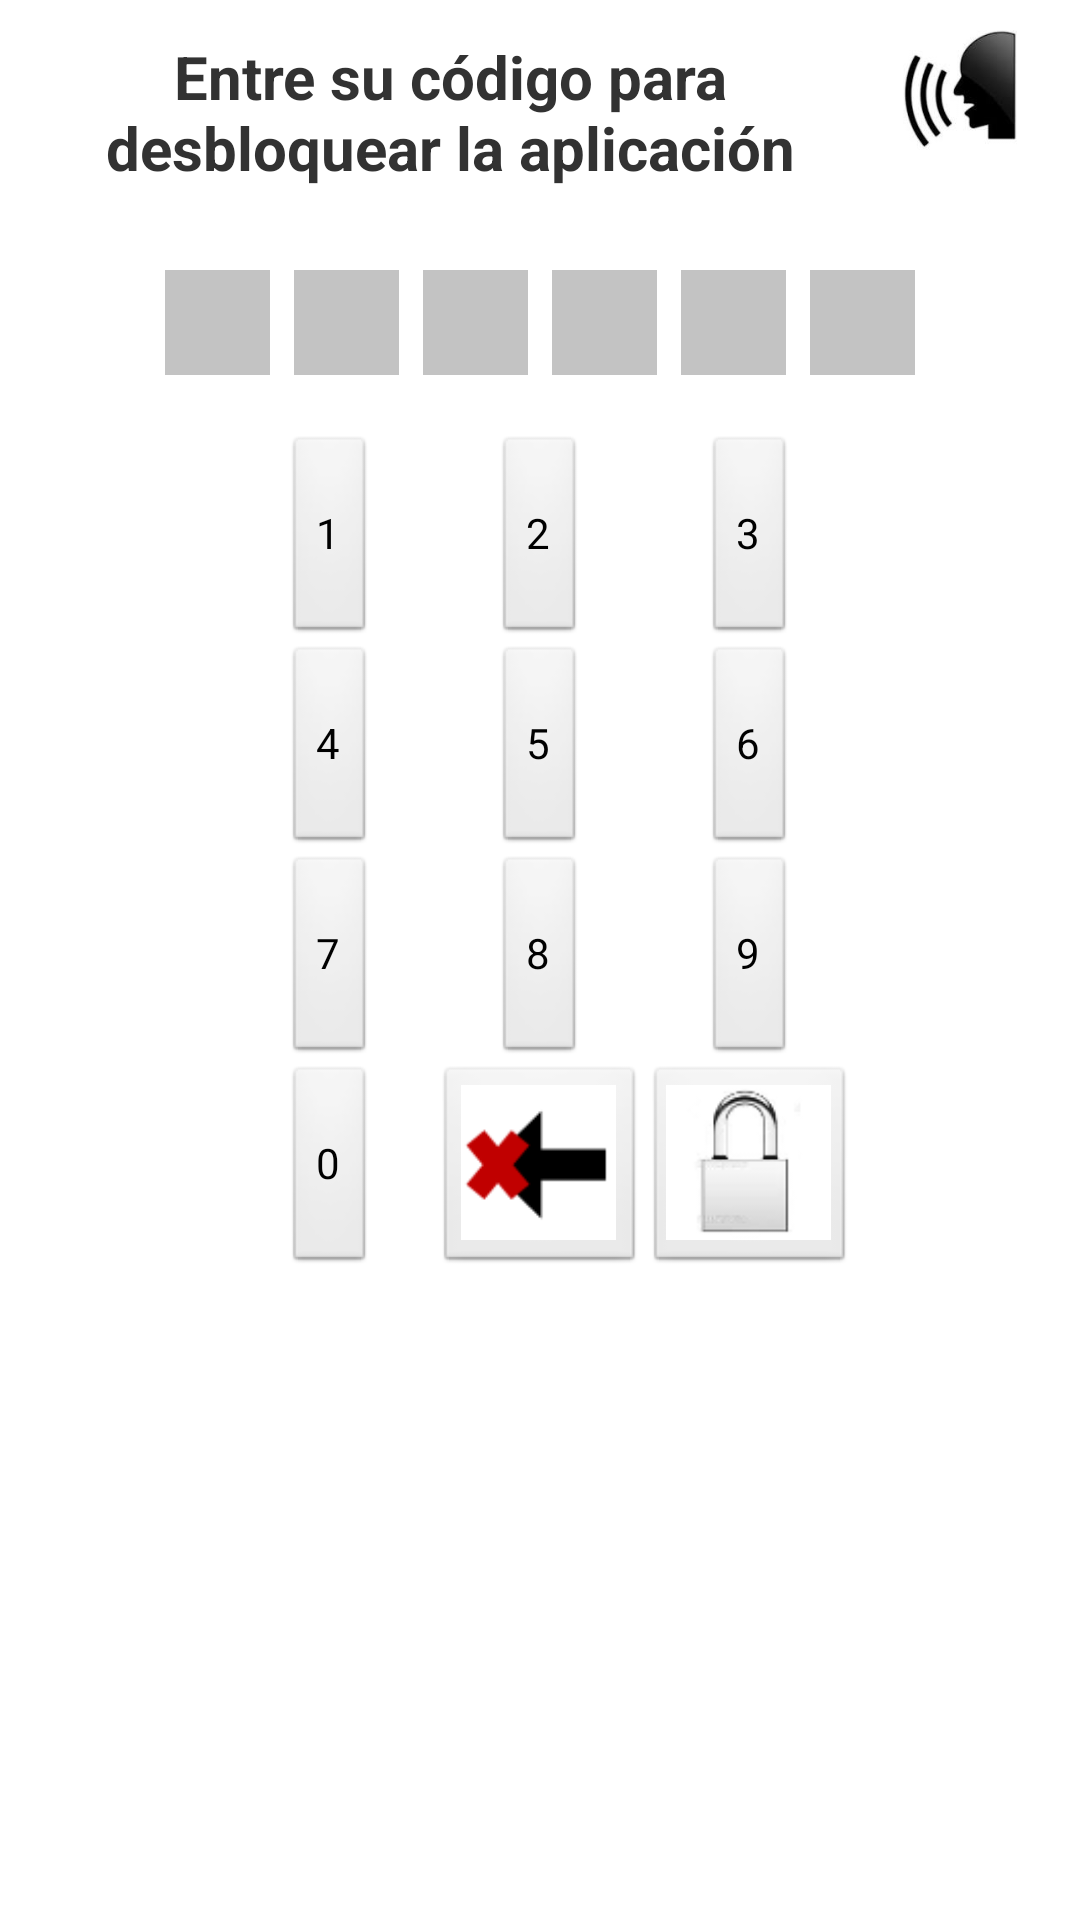

Named icons in this screenshot (1080x1920) and their centers, [x,y]:
Delete: [539,1166]
Login: [749,1166]
Sound Icon: [960,89]
